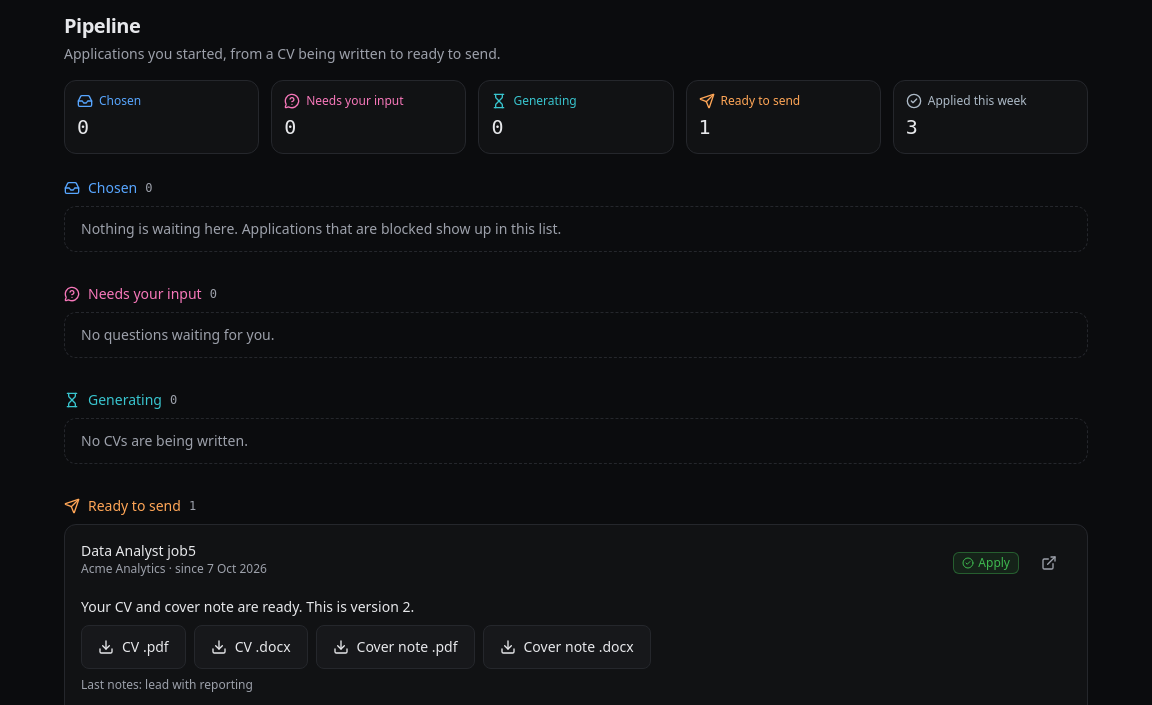
Test: Ready to send › stops a download that hit the time limit and lets the owner press again
The image size is (1152, 705).
Click the button with aria-label "Download CV as PDF": (133, 647) [81,625,186,669]
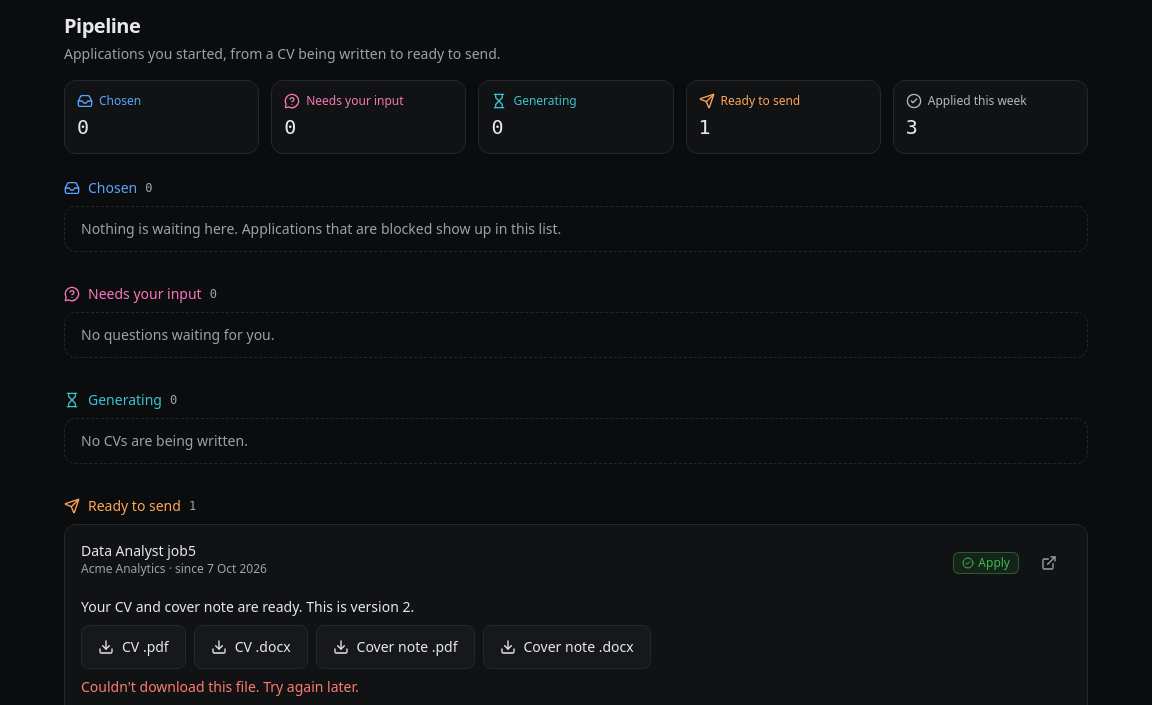
Now the message reads "Couldn't download this file. Try again later.", box [81,677,359,696]
